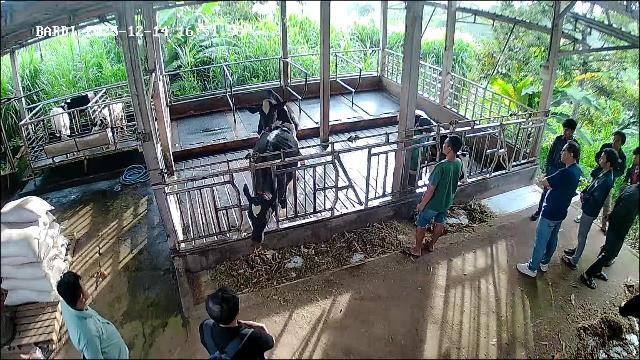mounting: (245, 90, 304, 184)
